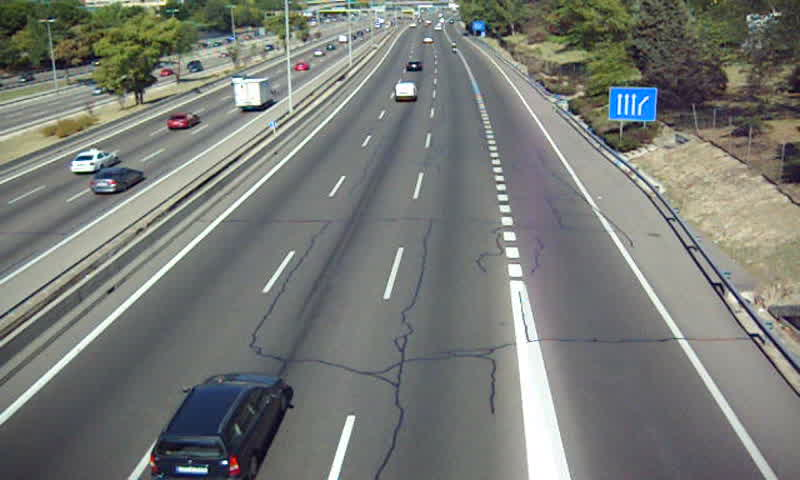car: (150, 373, 290, 480), (406, 60, 424, 72)
van: (393, 82, 417, 101)
